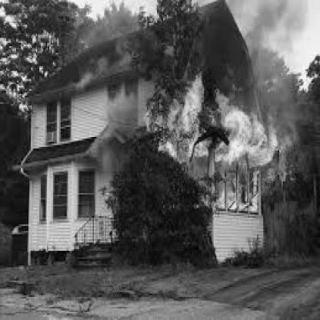Fire: (143, 73, 281, 211)
Smoke: (83, 0, 307, 76)
